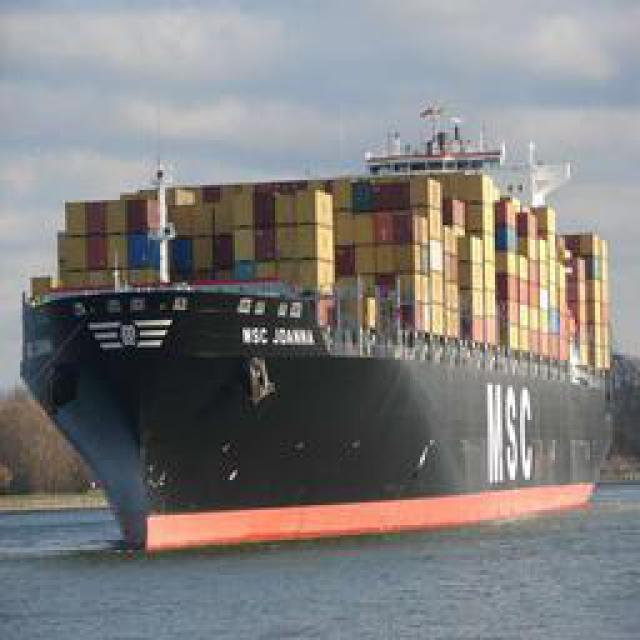Ship: (14, 104, 631, 554)
